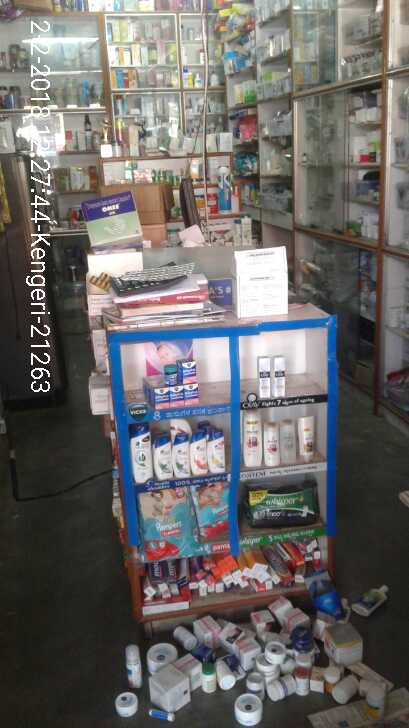beauty: (129, 420, 154, 485), (241, 410, 263, 467), (152, 432, 173, 478), (296, 415, 317, 460), (189, 430, 208, 478), (172, 434, 190, 480), (206, 430, 224, 472), (280, 419, 296, 466), (265, 420, 279, 465), (257, 356, 271, 400), (272, 355, 286, 395)
pharmacy: (137, 489, 198, 559), (243, 478, 321, 529), (175, 356, 198, 385), (152, 386, 170, 411), (169, 384, 184, 406), (163, 365, 177, 388), (181, 382, 198, 399)
